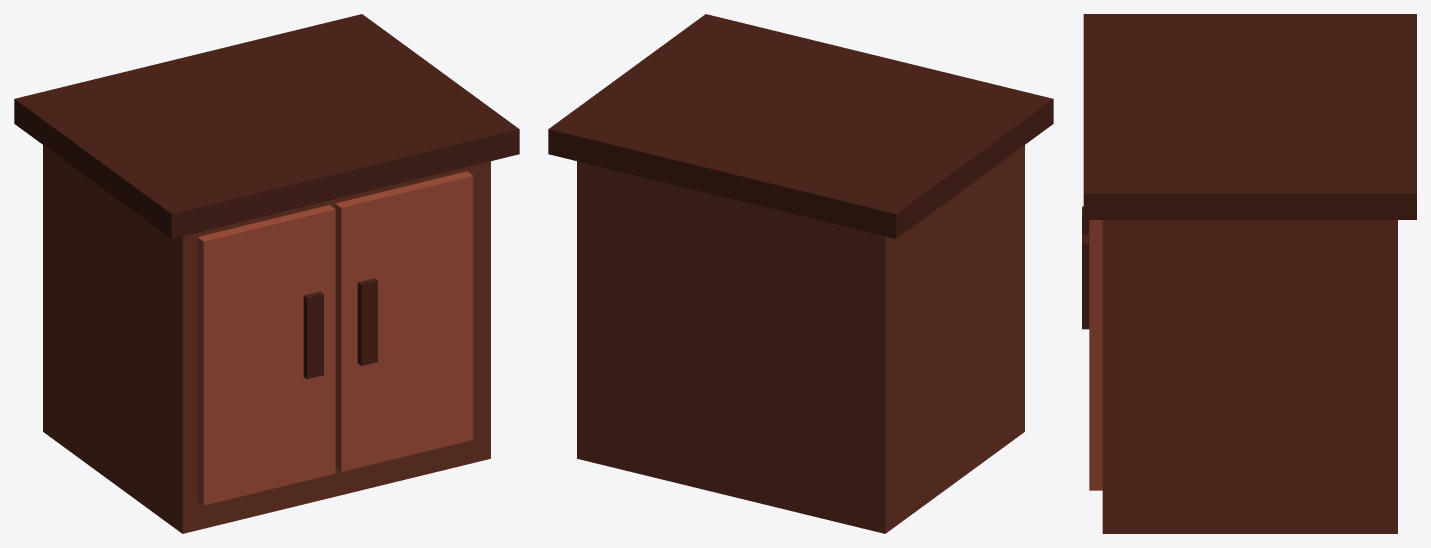
Rendered from dresser.fbx.
3 views of the same model, side by side, from view 1: azimuth 30°, elevation 25°; view 2: azimuth 150°, elevation 25°; view 3: azimuth 270°, elevation 25° (orthographic). The views are drawn at different scales.
Visible parts, largest first — view 1: Dresser; view 2: Dresser; view 3: Dresser.
Boxes of the visible parts, left/top/right/bottom form: Dresser: left=14, top=14, right=519, bottom=533; Dresser: left=548, top=14, right=1053, bottom=533; Dresser: left=1082, top=14, right=1416, bottom=533.
Size of the model in its own units: 8.94 by 8.14 by 7.04.
